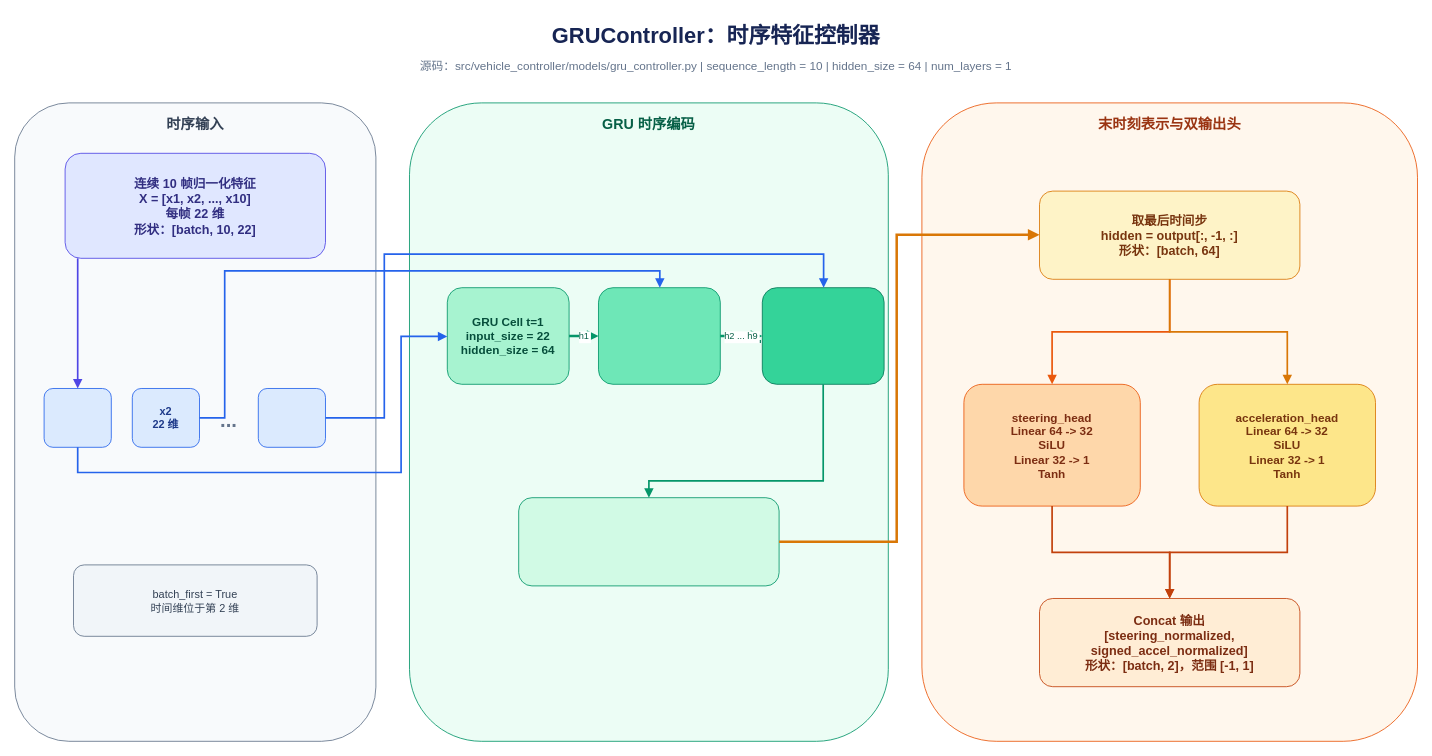
Some shapes in this 1432 by 756 pixel diagram are drawn without their labels. Here are the shapes that lost their labels. From the top down, the centre of each, then its label:
At [659,335]: "GRU Cell t=2 input_size = 22 hidden_size = 64".
At [822,335]: "GRU Cell t=10 input_size = 22 hidden_size = 64".
At [77,417]: "x1 22 维".
At [291,417]: "x10 22 维".
At [648,541]: "共享同一组 GRU 参数 num_layers = 1 output 形状：[batch, 10, 64]".
